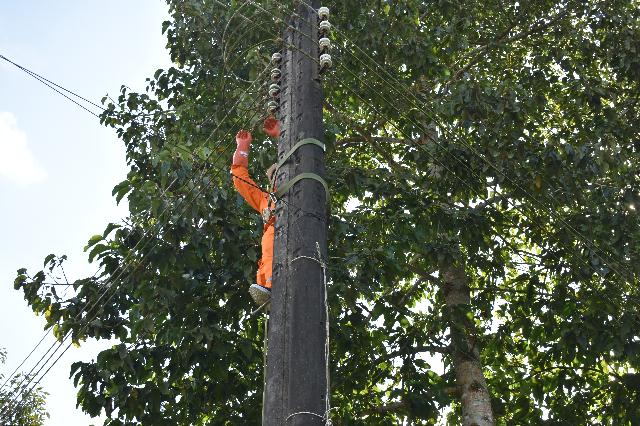gloves: (227, 129, 258, 168), (259, 115, 294, 143)
helmet: (261, 161, 287, 187)
shoes: (245, 275, 279, 316)
